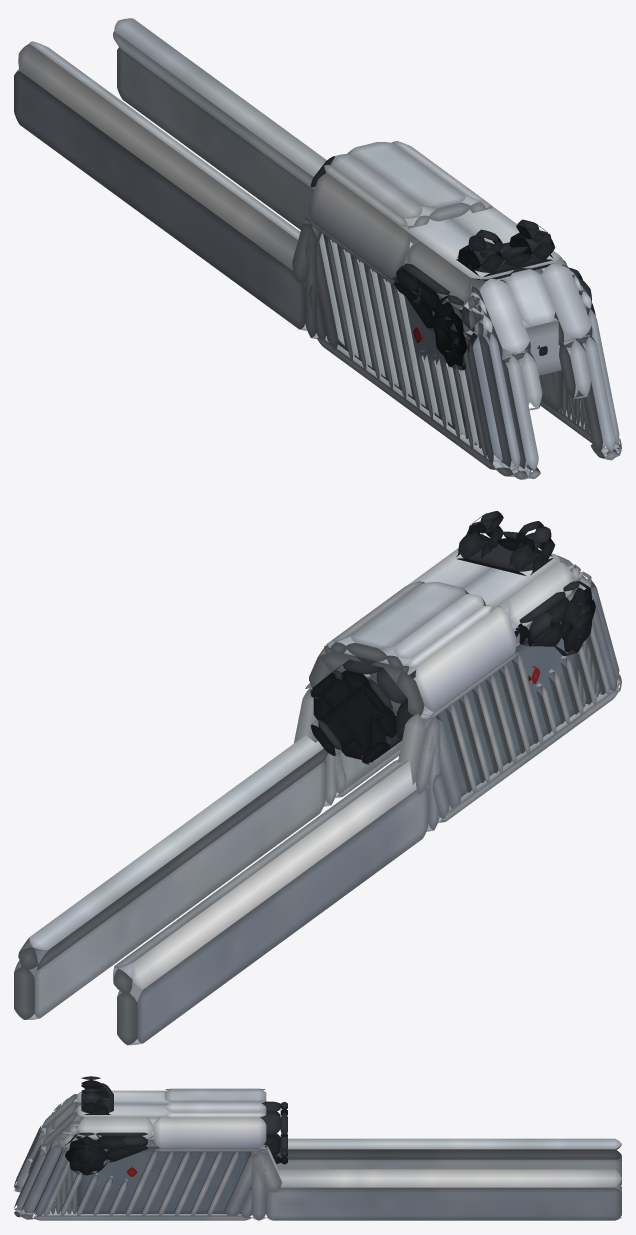
File: deagle_357_slide.fbx
The picture shows the model from 3 angles, top to bottom: view 1: azimuth 30°, elevation 25°; view 2: azimuth 150°, elevation 25°; view 3: azimuth 270°, elevation 25°; orthographic projection. The views are drawn at different scales.
Parts seen in each view (by area): view 1: cube_10, cube_11, cube_57, cube_58, cube_50, cube_103, cube_20, cube_16, cube_43, cube_61, cube_22, cube_102 (+28 smaller); view 2: cube_10, cube_57, cube_11, cube_58, cube_50, cube_20, cube_103, octagon_10, cube_102, cube_104, cube_22, cube_100 (+21 smaller); view 3: cube_57, cube_11, cube_64, cube_58, cube_93, cube_10, cube_66, cube_103, cube_59, cube_107, cube_100, cube_87 (+34 smaller).
Boxes of the visible parts, left/top/right/bottom form: cube_10: left=14, top=69, right=318, bottom=330; cube_11: left=18, top=41, right=300, bottom=270; cube_57: left=117, top=47, right=313, bottom=229; cube_58: left=113, top=18, right=326, bottom=189; cube_50: left=309, top=173, right=419, bottom=278; cube_103: left=347, top=142, right=471, bottom=221; cube_20: left=323, top=234, right=464, bottom=433; cube_16: left=471, top=278, right=530, bottom=362; cube_43: left=479, top=333, right=520, bottom=470; cube_61: left=540, top=263, right=592, bottom=347; cube_22: left=317, top=336, right=503, bottom=470; cube_102: left=326, top=172, right=513, bottom=290; cube_10: left=117, top=787, right=428, bottom=1045; cube_57: left=14, top=761, right=325, bottom=1019; cube_11: left=113, top=759, right=416, bottom=994; cube_58: left=18, top=735, right=328, bottom=970; cube_50: left=397, top=606, right=516, bottom=715; cube_20: left=427, top=622, right=577, bottom=805; cube_103: left=345, top=582, right=468, bottom=661; octagon_10: left=318, top=668, right=416, bottom=749; cube_102: left=369, top=553, right=560, bottom=684; cube_104: left=386, top=594, right=486, bottom=669; cube_22: left=438, top=690, right=618, bottom=823; cube_100: left=322, top=548, right=490, bottom=677; cube_57: left=266, top=1184, right=621, bottom=1220; cube_11: left=277, top=1138, right=621, bottom=1159; cube_64: left=77, top=1142, right=251, bottom=1213; cube_58: left=277, top=1169, right=621, bottom=1187; cube_93: left=153, top=1117, right=266, bottom=1148; cube_10: left=276, top=1156, right=621, bottom=1185; cube_66: left=33, top=1209, right=251, bottom=1220; cube_103: left=164, top=1089, right=266, bottom=1102; cube_59: left=77, top=1117, right=153, bottom=1138; cube_107: left=164, top=1102, right=266, bottom=1112; cube_100: left=77, top=1104, right=266, bottom=1130; cube_87: left=21, top=1141, right=65, bottom=1216.
Bounding box in the file's own units: 21.09 × 28.02 × 131.
1 material, 1 textured.
